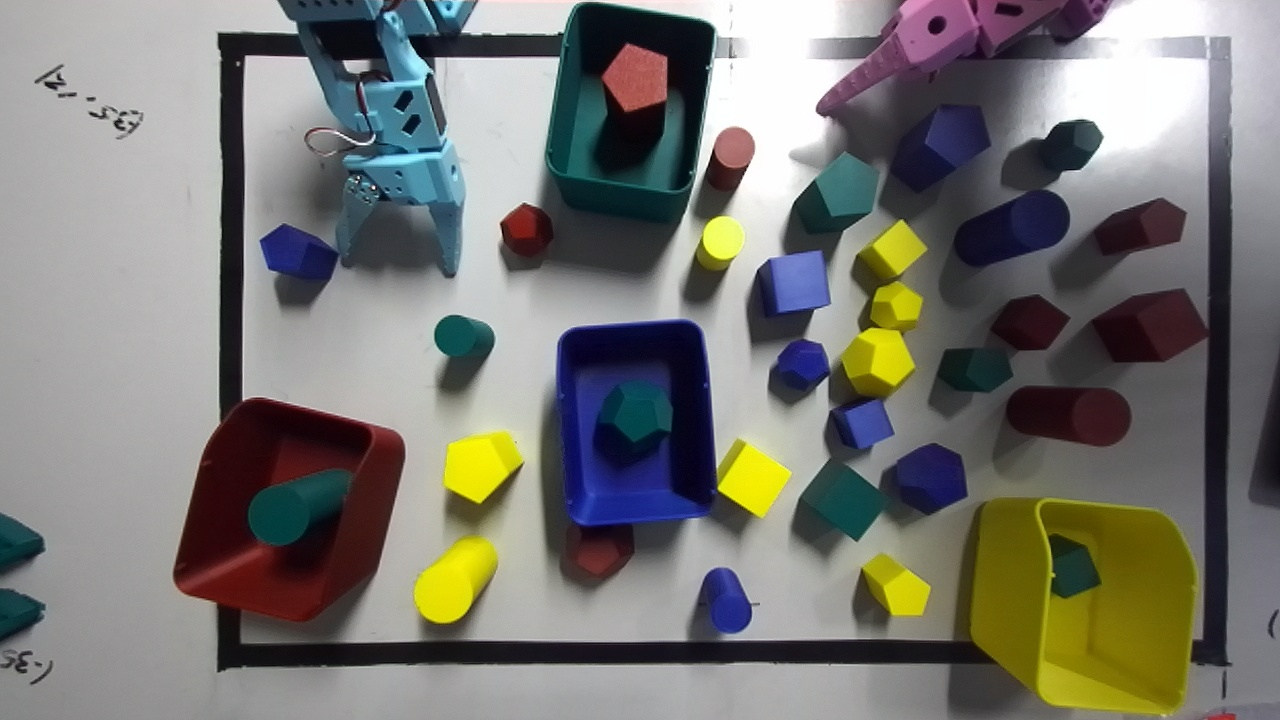bin: (173, 397, 404, 620), (970, 498, 1196, 713), (545, 3, 714, 222), (556, 320, 715, 525)
cube: (1091, 288, 1207, 362), (797, 459, 888, 540), (717, 439, 790, 516), (756, 250, 830, 317), (991, 295, 1069, 349), (858, 219, 926, 279), (1048, 534, 1100, 597), (830, 399, 894, 449)
cylinder: (953, 190, 1069, 267), (247, 469, 352, 545), (1006, 386, 1131, 445), (413, 536, 497, 623), (701, 567, 751, 633), (707, 127, 754, 190), (695, 216, 744, 270), (434, 314, 494, 356)
dodecahedron: (594, 380, 672, 465), (892, 443, 967, 514), (840, 328, 915, 396), (770, 339, 829, 402), (566, 523, 634, 577), (1041, 119, 1102, 171), (500, 203, 553, 256), (870, 281, 922, 331)
hexagonal: (891, 105, 990, 192), (792, 152, 878, 232), (601, 43, 667, 142), (443, 431, 523, 503), (1094, 198, 1186, 255), (259, 224, 337, 281), (862, 553, 930, 615), (937, 348, 1012, 392)
